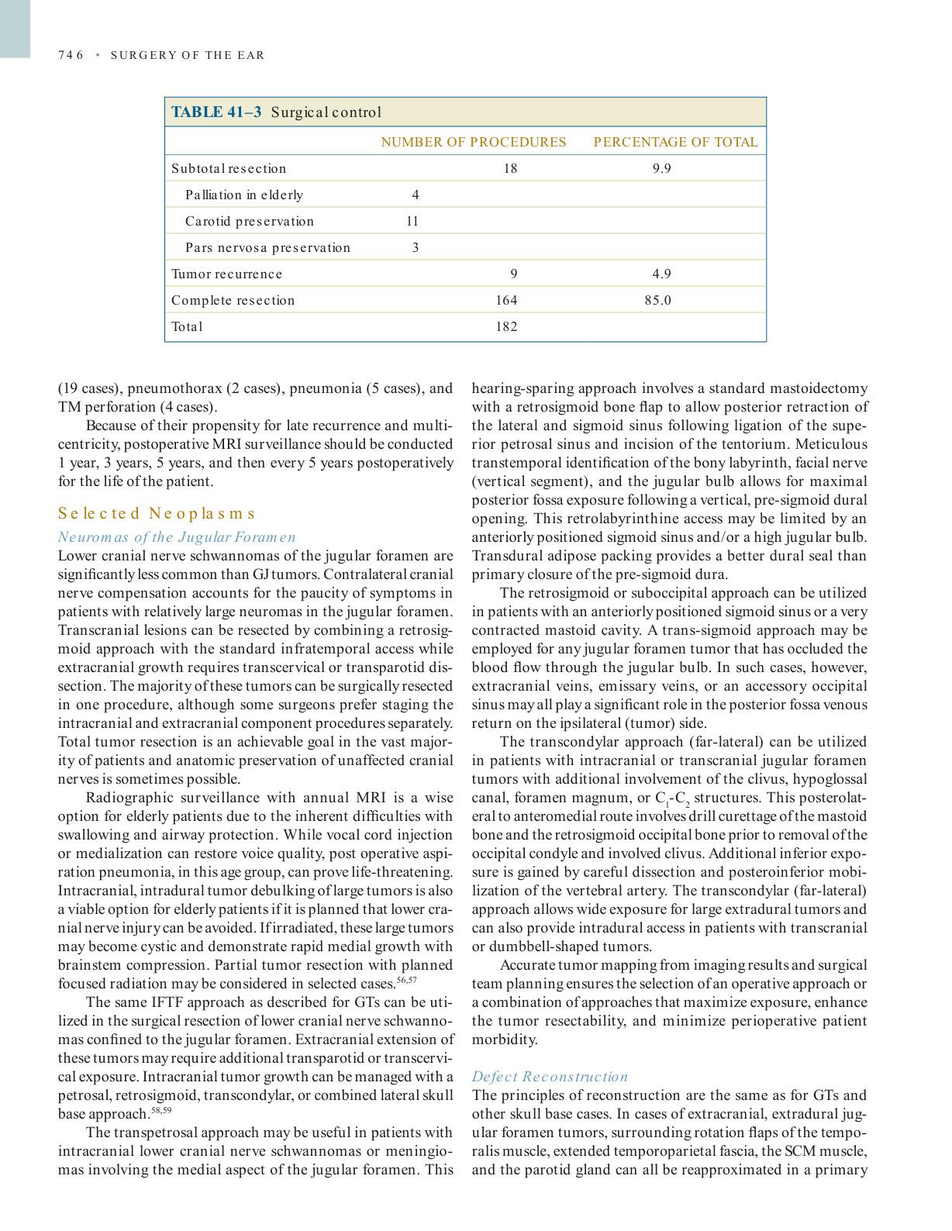caption: (171, 104, 385, 123)
header: (110, 49, 265, 61)
section-heading: (57, 504, 256, 523)
sub-section-heading: (56, 529, 296, 546), (470, 1069, 630, 1086)
table: (164, 125, 768, 342)
text: (469, 379, 869, 1049), (56, 548, 457, 1180), (54, 379, 455, 491), (471, 1087, 869, 1178)
